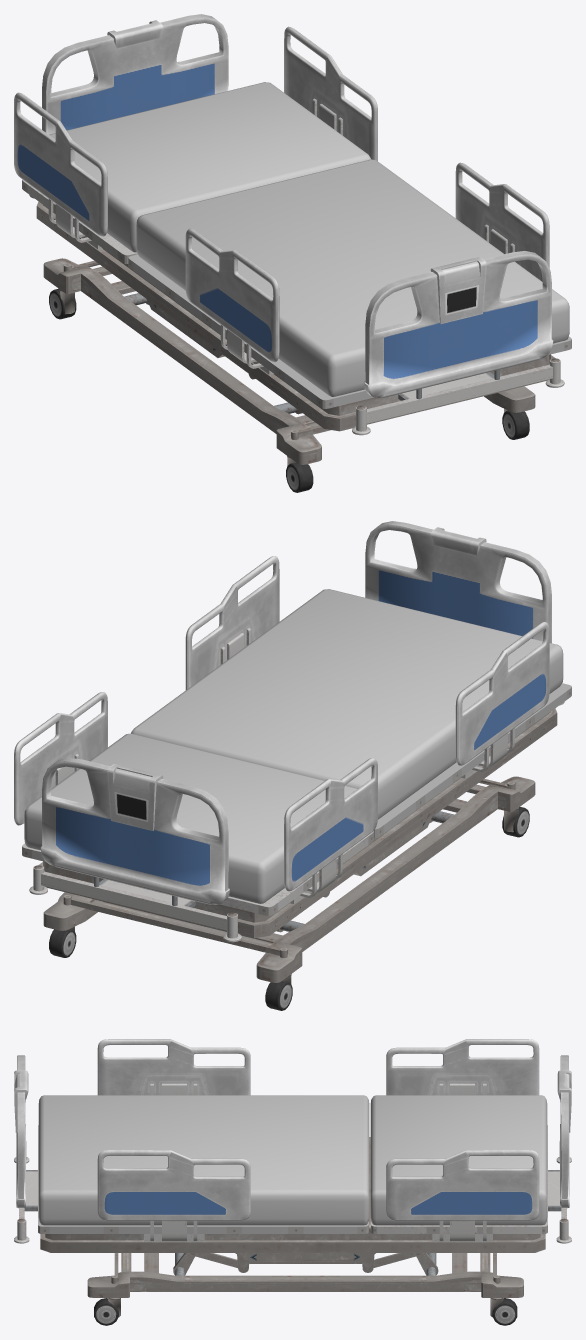
Rendered from SM_InfirmaryBed_A.fbx.
3 renders of one model, top to bottom at view 1: azimuth 30°, elevation 25°; view 2: azimuth 150°, elevation 25°; view 3: azimuth 270°, elevation 25°, orthographic. The views are drawn at different scales.
Parts seen in each view (by area): view 1: SM_InfirmaryBed_A_LOD0; view 2: SM_InfirmaryBed_A_LOD0; view 3: SM_InfirmaryBed_A_LOD0.
Boxes of the visible parts, x1,y1,x2,y2 form: SM_InfirmaryBed_A_LOD0: (14, 14, 571, 492); SM_InfirmaryBed_A_LOD0: (14, 521, 571, 1010); SM_InfirmaryBed_A_LOD0: (14, 1039, 571, 1325).
Bounding box in the file's own units: 136 × 284 × 112.
